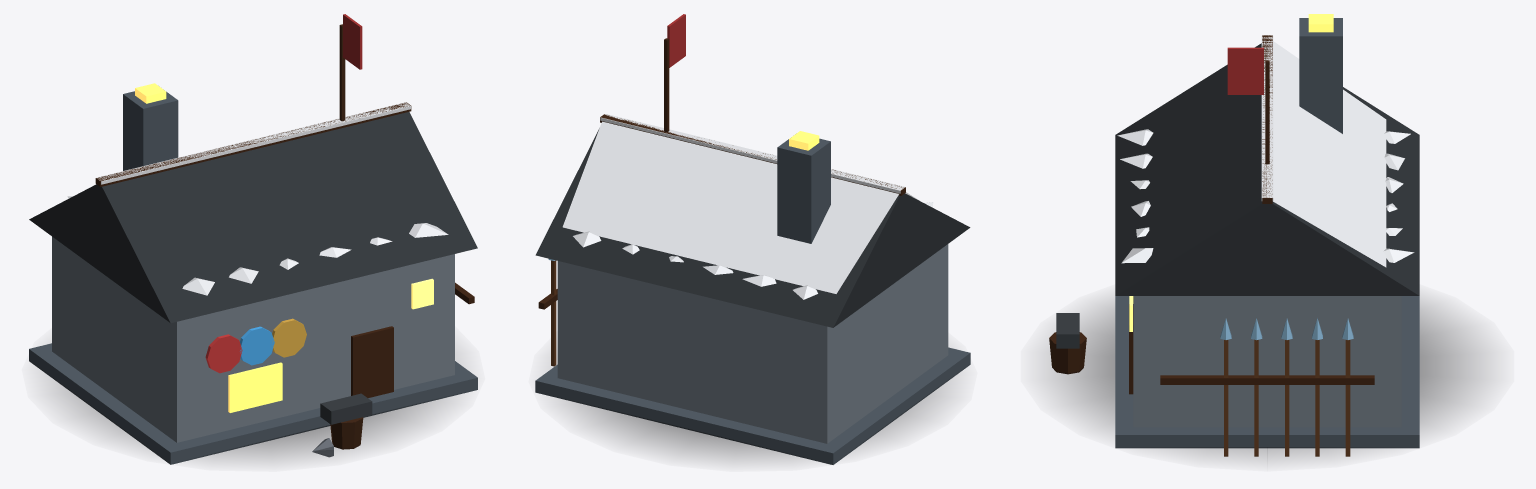
Rendered from workshop_t2.glb.
3 renders of one model, left to right at view 1: azimuth 30°, elevation 25°; view 2: azimuth 150°, elevation 25°; view 3: azimuth 270°, elevation 25°, orthographic. The views are drawn at different scales.
Parts seen in each view (by area): view 1: workshop_t2; view 2: workshop_t2; view 3: workshop_t2.
Boxes of the visible parts, box(x1,y1,x2,y2) form: workshop_t2: box(29, 14, 477, 464); workshop_t2: box(535, 14, 970, 464); workshop_t2: box(1049, 14, 1483, 461).
Size of the model in its own units: 7.08 by 5.72 by 7.01.
